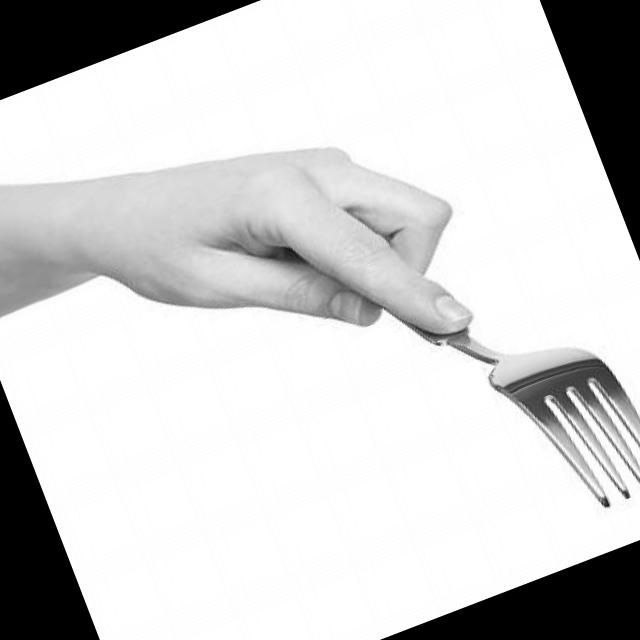fork: (273, 95, 640, 580)
